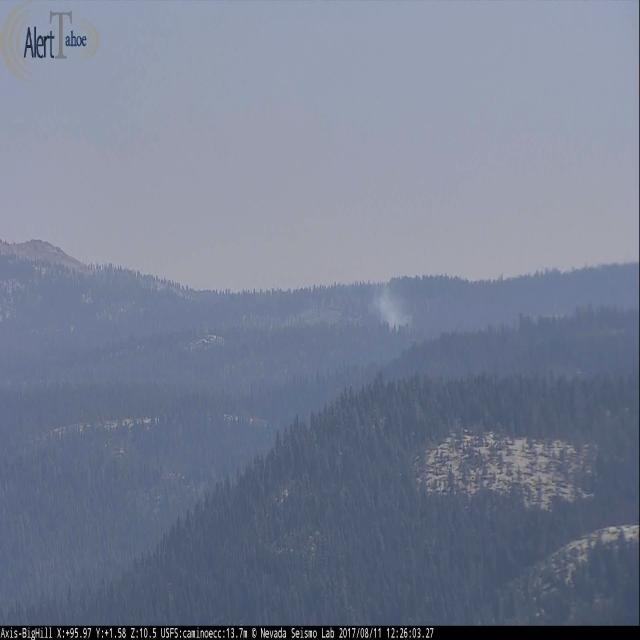smoke: (366, 292, 410, 327)
